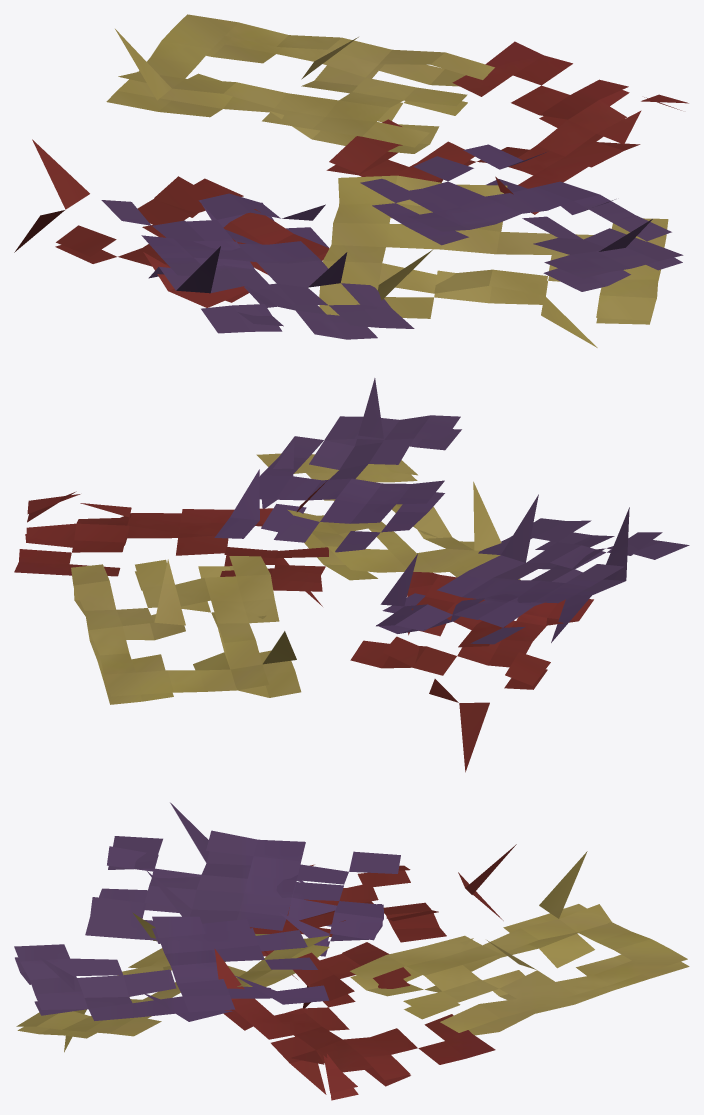
File: FD10_ChocolateWrappers.glb
3 renders of one model, top to bottom at view 1: azimuth 30°, elevation 25°; view 2: azimuth 150°, elevation 25°; view 3: azimuth 270°, elevation 25°, orthographic. The views are drawn at different scales.
Parts seen in each view (by area): view 1: FD10_ChocolateWrappers; view 2: FD10_ChocolateWrappers; view 3: FD10_ChocolateWrappers.
Part boxes in pixels (left/top/right/bottom): FD10_ChocolateWrappers: left=14, top=14, right=688, bottom=347; FD10_ChocolateWrappers: left=14, top=378, right=689, bottom=772; FD10_ChocolateWrappers: left=14, top=802, right=689, bottom=1100.
Size of the model in its own units: 0.1763 by 0.0436 by 0.1996.
Materials: 3 (3 with a texture image).
